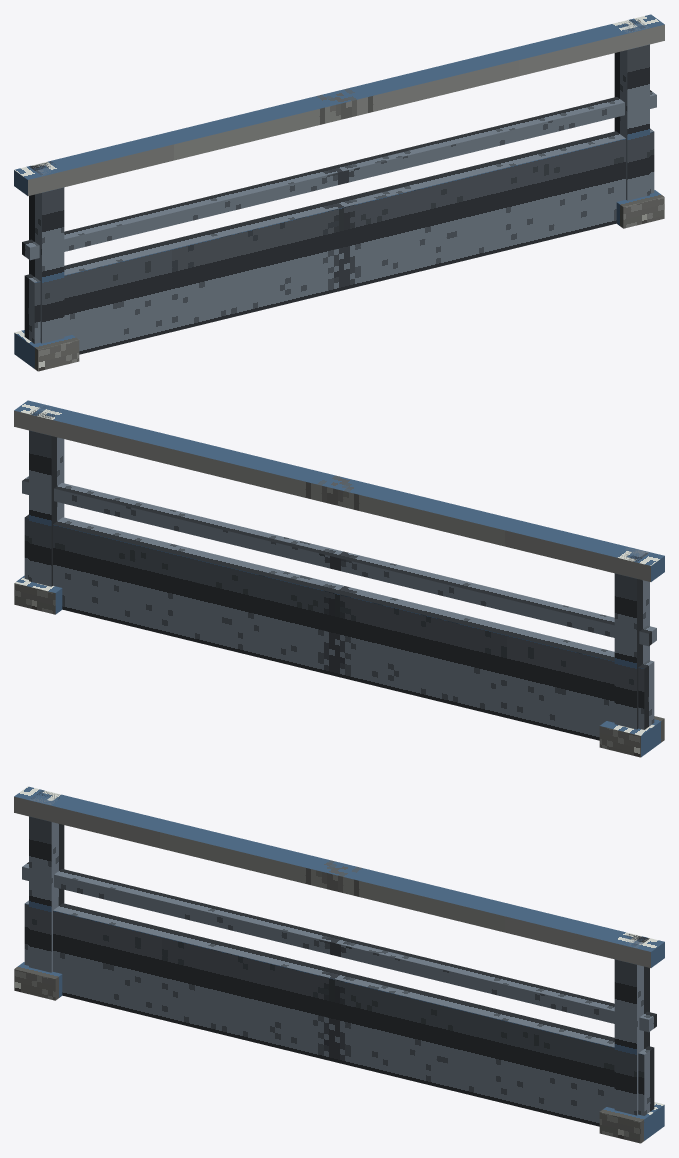
The model's file is sp_skiff_rail.glb.
3 renders of one model, top to bottom at view 1: azimuth 30°, elevation 25°; view 2: azimuth 150°, elevation 25°; view 3: azimuth 330°, elevation 25°, orthographic.
Parts seen in each view (by area): view 1: rail_panel, rail_cap, rail_mid, rail_post_-1, rail_post_1, rail_mount_-1, rail_mount_1; view 2: rail_panel, rail_cap, rail_mid, rail_post_-1, rail_post_1, rail_mount_-1, rail_mount_1; view 3: rail_panel, rail_cap, rail_mid, rail_post_1, rail_post_-1, rail_mount_1, rail_mount_-1.
Part boxes in pixels (<box>): rail_panel: <box>24,128,654,354</box>; rail_cap: <box>14,14,664,195</box>; rail_mid: <box>22,90,656,260</box>; rail_post_-1: <box>29,161,64,343</box>; rail_post_1: <box>614,19,649,200</box>; rail_mount_-1: <box>14,330,79,371</box>; rail_mount_1: <box>616,189,664,228</box>; rail_panel: <box>24,514,654,740</box>; rail_cap: <box>14,400,664,581</box>; rail_mid: <box>22,476,656,646</box>; rail_post_-1: <box>614,548,649,729</box>; rail_post_1: <box>29,405,64,586</box>; rail_mount_-1: <box>599,716,664,757</box>; rail_mount_1: <box>14,575,62,614</box>; rail_panel: <box>24,900,654,1126</box>; rail_cap: <box>14,786,664,967</box>; rail_mid: <box>22,862,656,1032</box>; rail_post_1: <box>614,934,649,1115</box>; rail_post_-1: <box>29,790,64,972</box>; rail_mount_1: <box>599,1102,664,1143</box>; rail_mount_-1: <box>14,961,62,1000</box>.
Size of the model in its own units: 3.7 by 1.05 by 0.24.
2 materials, 2 textured.
